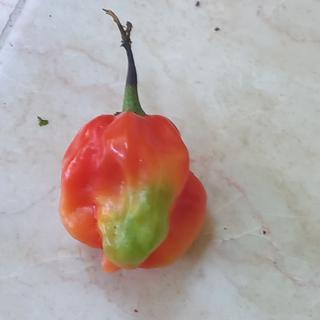Grade-B: (57, 109, 214, 279)
